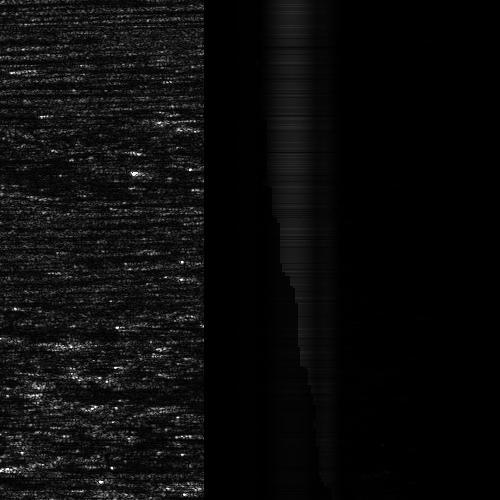object: (0, 462, 49, 471)
shadow: (18, 462, 184, 471), (0, 462, 45, 481)
